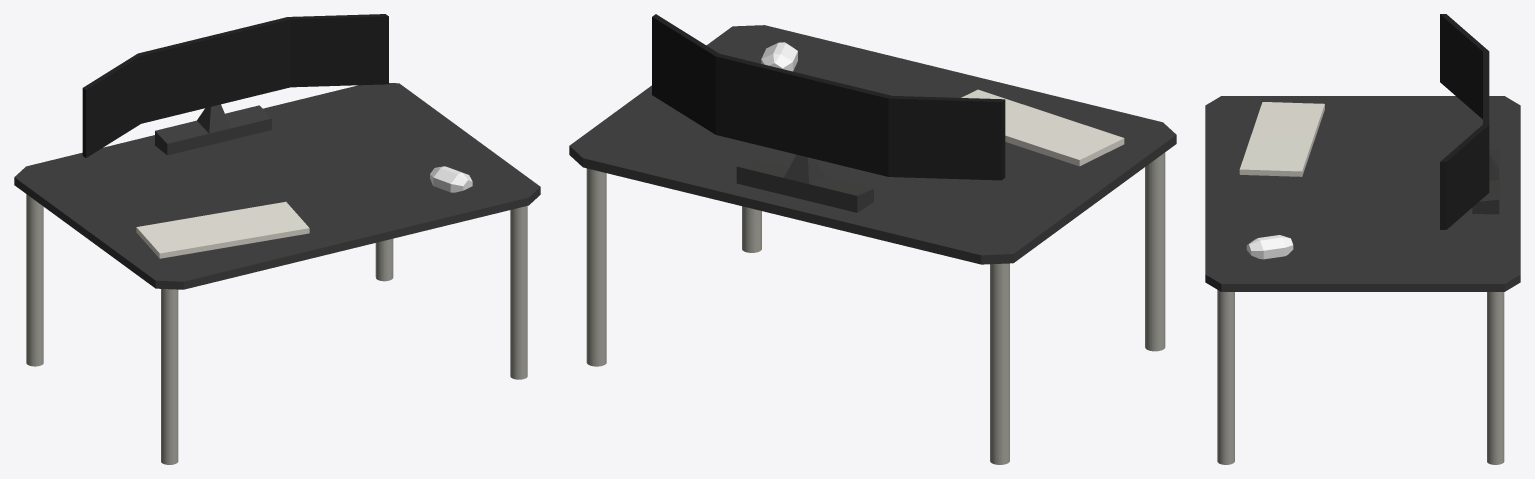
Rendered from computer-desk--1.gltf.
3 renders of one model, left to right at view 1: azimuth 30°, elevation 25°; view 2: azimuth 150°, elevation 25°; view 3: azimuth 270°, elevation 25°, orthographic. The views are drawn at different scales.
Visible parts, largest first — view 1: Table1; view 2: Table1; view 3: Table1.
Part boxes in pixels (bbox=[...]): Table1: bbox=[14, 14, 540, 464]; Table1: bbox=[569, 14, 1176, 464]; Table1: bbox=[1205, 14, 1520, 464].
Bounding box in the file's own units: 1.32 × 0.9426 × 0.9368.
1 material, 1 textured.
